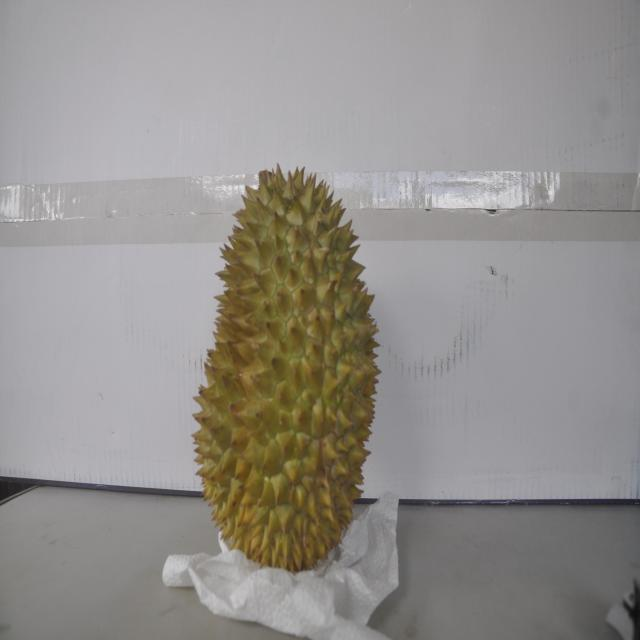mature: (189, 167, 382, 570)
